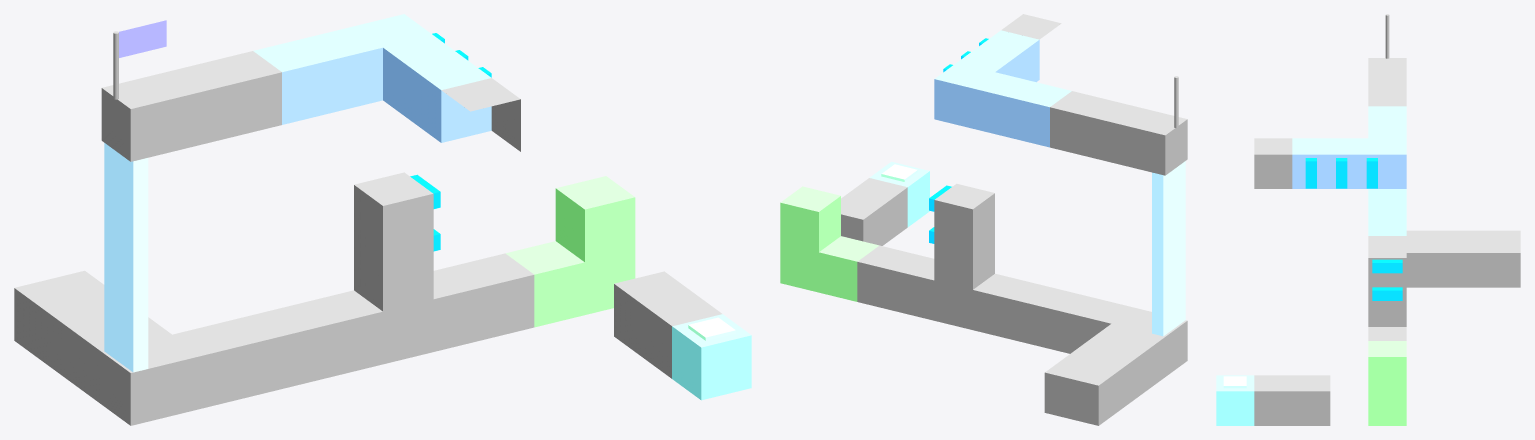
File: level2_scene1.gltf
The picture shows the model from 3 angles, left to right: view 1: azimuth 30°, elevation 25°; view 2: azimuth 150°, elevation 25°; view 3: azimuth 270°, elevation 25°; orthographic projection. The views are drawn at different scales.
Parts seen in each view (by area): view 1: Box_break, Box (×2), Box_3, Boxbottom, Box_son, Box_2, Box_Parent, Boxdad2, Box4, Boxson2, Box5, Box3 (+3 smaller); view 2: Box (×2), Box_break, Box_2, Box_3, Boxbottom, Box_son, Box_Parent, Boxdad2, Box4, Boxson2, Box5, Box3 (+1 smaller); view 3: Box_2, Box_son, Box4, Box (×2), Boxson2, Box_3, Boxbottom, Box5, Boxdad2, Box2, Box_Parent, Box3 (+6 smaller).
Part boxes in pixels (bbox=[...]): Box_break: bbox=[101, 290, 382, 425]; Box (×2): bbox=[354, 172, 534, 364]; Box_3: bbox=[101, 51, 281, 161]; Boxbottom: bbox=[104, 143, 148, 372]; Box_son: bbox=[354, 14, 491, 142]; Box_2: bbox=[14, 270, 171, 404]; Box_Parent: bbox=[253, 26, 382, 124]; Boxdad2: bbox=[505, 241, 635, 327]; Box4: bbox=[614, 271, 721, 378]; Boxson2: bbox=[555, 176, 635, 262]; Box5: bbox=[672, 314, 751, 400]; Box3: bbox=[441, 78, 520, 111]; Box (×2): bbox=[857, 183, 994, 329]; Box_break: bbox=[973, 273, 1187, 376]; Box_2: bbox=[1044, 323, 1165, 425]; Box_3: bbox=[1050, 91, 1187, 175]; Boxbottom: bbox=[1152, 161, 1185, 336]; Box_son: bbox=[934, 30, 1039, 128]; Box_Parent: bbox=[973, 72, 1071, 147]; Boxdad2: bbox=[780, 236, 879, 301]; Box4: bbox=[841, 178, 907, 245]; Boxson2: bbox=[780, 186, 840, 252]; Box5: bbox=[869, 161, 929, 227]; Box3: bbox=[1001, 14, 1061, 39]; Box_2: bbox=[1406, 230, 1520, 287]; Box_son: bbox=[1292, 138, 1406, 188]; Box4: bbox=[1254, 375, 1330, 425]; Box (×2): bbox=[1368, 242, 1406, 340]; Boxson2: bbox=[1368, 341, 1406, 391]; Box_3: bbox=[1368, 58, 1406, 106]; Boxbottom: bbox=[1368, 189, 1406, 235]; Box5: bbox=[1216, 375, 1254, 425]; Boxdad2: bbox=[1368, 391, 1406, 425]; Box2: bbox=[1254, 154, 1292, 188]; Box_Parent: bbox=[1368, 106, 1406, 138]; Box3: bbox=[1254, 138, 1292, 154].
Bounding box in the file's own units: 10.05 × 7.25 × 8.
